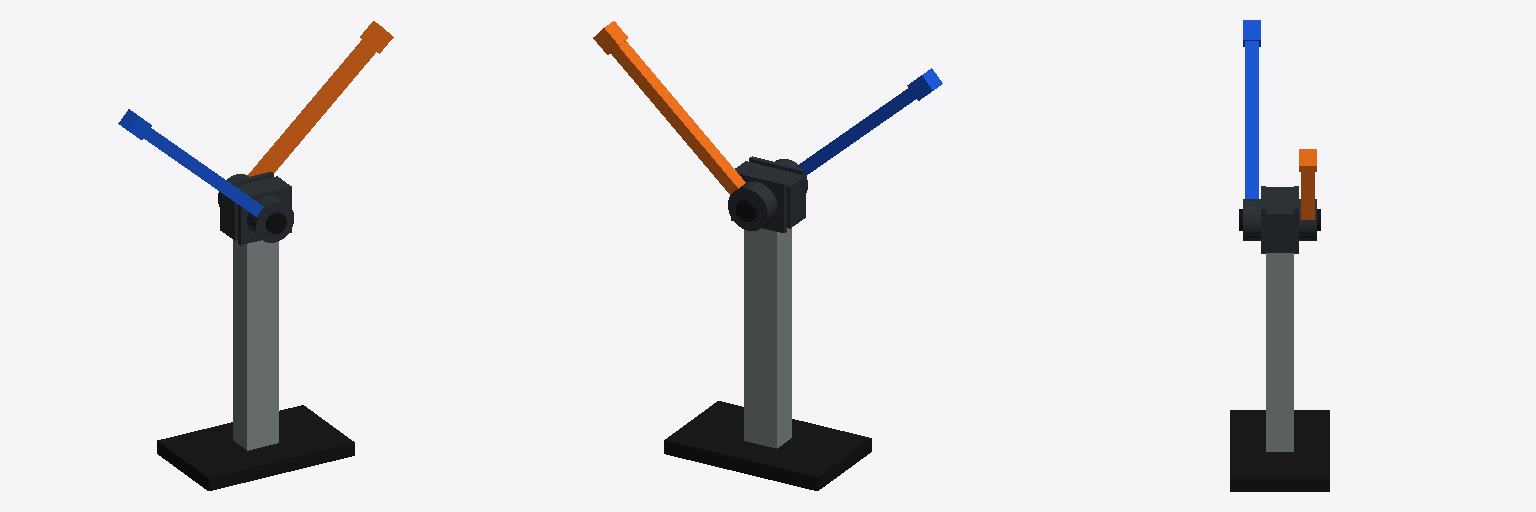
robot.urdf — y_mechanical_tree:
<robot name="y_mechanical_tree">
  <material name="dark_steel">
    <color rgba="0.1 0.11 0.12 1" />
    </material>
  <material name="brushed_steel">
    <color rgba="0.55 0.58 0.58 1" />
    </material>
  <material name="hub_gray">
    <color rgba="0.2 0.22 0.24 1" />
    </material>
  <material name="branch_orange">
    <color rgba="0.95 0.45 0.12 1" />
    </material>
  <material name="branch_blue">
    <color rgba="0.12 0.36 0.88 1" />
    </material>
  <link name="trunk">
    <visual name="base_plate">
      <origin xyz="0 0 0.02" rpy="0 0 0" />
      <geometry>
        <box size="0.46 0.28 0.04" />
        </geometry>
      <material name="dark_steel">
        <color rgba="0.1 0.11 0.12 1" />
        </material>
      </visual>
    <visual name="upright_member">
      <origin xyz="0 0 0.39" rpy="0 0 0" />
      <geometry>
        <box size="0.1 0.08 0.7" />
        </geometry>
      <material name="brushed_steel">
        <color rgba="0.55 0.58 0.58 1" />
        </material>
      </visual>
    <visual name="head_block">
      <origin xyz="0 0 0.74" rpy="0 0 0" />
      <geometry>
        <box size="0.18 0.08 0.12" />
        </geometry>
      <material name="hub_gray">
        <color rgba="0.2 0.22 0.24 1" />
        </material>
      </visual>
    <visual name="front_fork_plate">
      <origin xyz="0 0.0475 0.74" rpy="0 0 0" />
      <geometry>
        <box size="0.16 0.015 0.14" />
        </geometry>
      <material name="hub_gray">
        <color rgba="0.2 0.22 0.24 1" />
        </material>
      </visual>
    <visual name="rear_fork_plate">
      <origin xyz="0 -0.0475 0.74" rpy="0 0 0" />
      <geometry>
        <box size="0.16 0.015 0.14" />
        </geometry>
      <material name="hub_gray">
        <color rgba="0.2 0.22 0.24 1" />
        </material>
      </visual>
    <visual name="cross_pin">
      <origin xyz="0 0 0.74" rpy="1.5708 0 0" />
      <geometry>
        <cylinder radius="0.018" length="0.18" />
        </geometry>
      <material name="dark_steel">
        <color rgba="0.1 0.11 0.12 1" />
        </material>
      </visual>
    <collision name="base_plate">
      <origin xyz="0 0 0.02" rpy="0 0 0" />
      <geometry>
        <box size="0.46 0.28 0.04" />
        </geometry>
      </collision>
    <collision name="upright_member">
      <origin xyz="0 0 0.39" rpy="0 0 0" />
      <geometry>
        <box size="0.1 0.08 0.7" />
        </geometry>
      </collision>
    <collision name="head_block">
      <origin xyz="0 0 0.74" rpy="0 0 0" />
      <geometry>
        <box size="0.18 0.08 0.12" />
        </geometry>
      </collision>
    <collision name="front_fork_plate">
      <origin xyz="0 0.0475 0.74" rpy="0 0 0" />
      <geometry>
        <box size="0.16 0.015 0.14" />
        </geometry>
      </collision>
    <collision name="rear_fork_plate">
      <origin xyz="0 -0.0475 0.74" rpy="0 0 0" />
      <geometry>
        <box size="0.16 0.015 0.14" />
        </geometry>
      </collision>
    <collision name="cross_pin">
      <origin xyz="0 0 0.74" rpy="1.5708 0 0" />
      <geometry>
        <cylinder radius="0.018" length="0.18" />
        </geometry>
      </collision>
    </link>
  <link name="branch_0">
    <visual name="hub_shell">
      <origin xyz="0 0 0" rpy="1.5708 0 0" />
      <geometry>
        <cylinder radius="0.06" length="0.05" />
        </geometry>
      <material name="hub_gray">
        <color rgba="0.2 0.22 0.24 1" />
        </material>
      </visual>
    <visual name="branch_beam">
      <origin xyz="0.231861 0 0.208769" rpy="0 -0.733038 0" />
      <geometry>
        <box size="0.52 0.04 0.035" />
        </geometry>
      <material name="branch_orange">
        <color rgba="0.95 0.45 0.12 1" />
        </material>
      </visual>
    <visual name="tip_cap">
      <origin xyz="0.425079 0 0.382743" rpy="0 -0.733038 0" />
      <geometry>
        <box size="0.06 0.052 0.05" />
        </geometry>
      <material name="branch_orange">
        <color rgba="0.95 0.45 0.12 1" />
        </material>
      </visual>
    <visual name="hub_cap">
      <origin xyz="0 0.031 0" rpy="1.5708 0 0" />
      <geometry>
        <cylinder radius="0.03" length="0.012" />
        </geometry>
      <material name="dark_steel">
        <color rgba="0.1 0.11 0.12 1" />
        </material>
      </visual>
    <collision name="hub_shell">
      <origin xyz="0 0 0" rpy="1.5708 0 0" />
      <geometry>
        <cylinder radius="0.06" length="0.05" />
        </geometry>
      </collision>
    <collision name="branch_beam">
      <origin xyz="0.231861 0 0.208769" rpy="0 -0.733038 0" />
      <geometry>
        <box size="0.52 0.04 0.035" />
        </geometry>
      </collision>
    <collision name="tip_cap">
      <origin xyz="0.425079 0 0.382743" rpy="0 -0.733038 0" />
      <geometry>
        <box size="0.06 0.052 0.05" />
        </geometry>
      </collision>
    <collision name="hub_cap">
      <origin xyz="0 0.031 0" rpy="1.5708 0 0" />
      <geometry>
        <cylinder radius="0.03" length="0.012" />
        </geometry>
      </collision>
    </link>
  <link name="branch_1">
    <visual name="hub_shell">
      <origin xyz="0 0 0" rpy="1.5708 0 0" />
      <geometry>
        <cylinder radius="0.06" length="0.05" />
        </geometry>
      <material name="hub_gray">
        <color rgba="0.2 0.22 0.24 1" />
        </material>
      </visual>
    <visual name="branch_beam">
      <origin xyz="-0.231861 0 0.208769" rpy="0 -2.40855 0" />
      <geometry>
        <box size="0.52 0.04 0.035" />
        </geometry>
      <material name="branch_blue">
        <color rgba="0.12 0.36 0.88 1" />
        </material>
      </visual>
    <visual name="tip_cap">
      <origin xyz="-0.425079 0 0.382743" rpy="0 -2.40855 0" />
      <geometry>
        <box size="0.06 0.052 0.05" />
        </geometry>
      <material name="branch_blue">
        <color rgba="0.12 0.36 0.88 1" />
        </material>
      </visual>
    <visual name="hub_cap">
      <origin xyz="0 -0.031 0" rpy="1.5708 0 0" />
      <geometry>
        <cylinder radius="0.03" length="0.012" />
        </geometry>
      <material name="dark_steel">
        <color rgba="0.1 0.11 0.12 1" />
        </material>
      </visual>
    <collision name="hub_shell">
      <origin xyz="0 0 0" rpy="1.5708 0 0" />
      <geometry>
        <cylinder radius="0.06" length="0.05" />
        </geometry>
      </collision>
    <collision name="branch_beam">
      <origin xyz="-0.231861 0 0.208769" rpy="0 -2.40855 0" />
      <geometry>
        <box size="0.52 0.04 0.035" />
        </geometry>
      </collision>
    <collision name="tip_cap">
      <origin xyz="-0.425079 0 0.382743" rpy="0 -2.40855 0" />
      <geometry>
        <box size="0.06 0.052 0.05" />
        </geometry>
      </collision>
    <collision name="hub_cap">
      <origin xyz="0 -0.031 0" rpy="1.5708 0 0" />
      <geometry>
        <cylinder radius="0.03" length="0.012" />
        </geometry>
      </collision>
    </link>
  <joint name="branch_hinge_0" type="revolute">
    <origin xyz="0 0.08 0.74" rpy="0 0 0" />
    <parent link="trunk" />
    <child link="branch_0" />
    <axis xyz="0 -1 0" />
    <limit effort="18" velocity="2" lower="-0.45" upper="0.75" />
    <dynamics damping="0.1" friction="0.03" />
    </joint>
  <joint name="branch_hinge_1" type="revolute">
    <origin xyz="0 -0.08 0.74" rpy="0 0 0" />
    <parent link="trunk" />
    <child link="branch_1" />
    <axis xyz="0 1 0" />
    <limit effort="18" velocity="2" lower="-0.45" upper="0.75" />
    <dynamics damping="0.1" friction="0.03" />
    </joint>
  </robot>

--- Render facts (derived) ---
Views: 3 orthographic renders of the robot side by side, from view 1: azimuth 30°, elevation 25°; view 2: azimuth 150°, elevation 25°; view 3: azimuth 270°, elevation 25°.
Robot: y_mechanical_tree — 3 links, 2 joints (2 revolute); root link trunk; default pose: every joint at zero.
Links seen in each view (by area): view 1: trunk, branch_0, branch_1; view 2: trunk, branch_0, branch_1; view 3: trunk, branch_1, branch_0.
Link boxes in pixels (bbox=[...]): trunk: bbox=[157, 172, 354, 490]; branch_0: bbox=[218, 21, 393, 206]; branch_1: bbox=[118, 109, 293, 242]; trunk: bbox=[664, 156, 871, 490]; branch_0: bbox=[593, 21, 776, 230]; branch_1: bbox=[775, 68, 942, 192]; trunk: bbox=[1230, 186, 1329, 491]; branch_1: bbox=[1239, 20, 1260, 240]; branch_0: bbox=[1299, 149, 1320, 240].
Size in the robot's own frame: 0.9282 by 0.28 by 1.16 metres.
Geometry: primitives only (box / cylinder / sphere), no mesh files.
